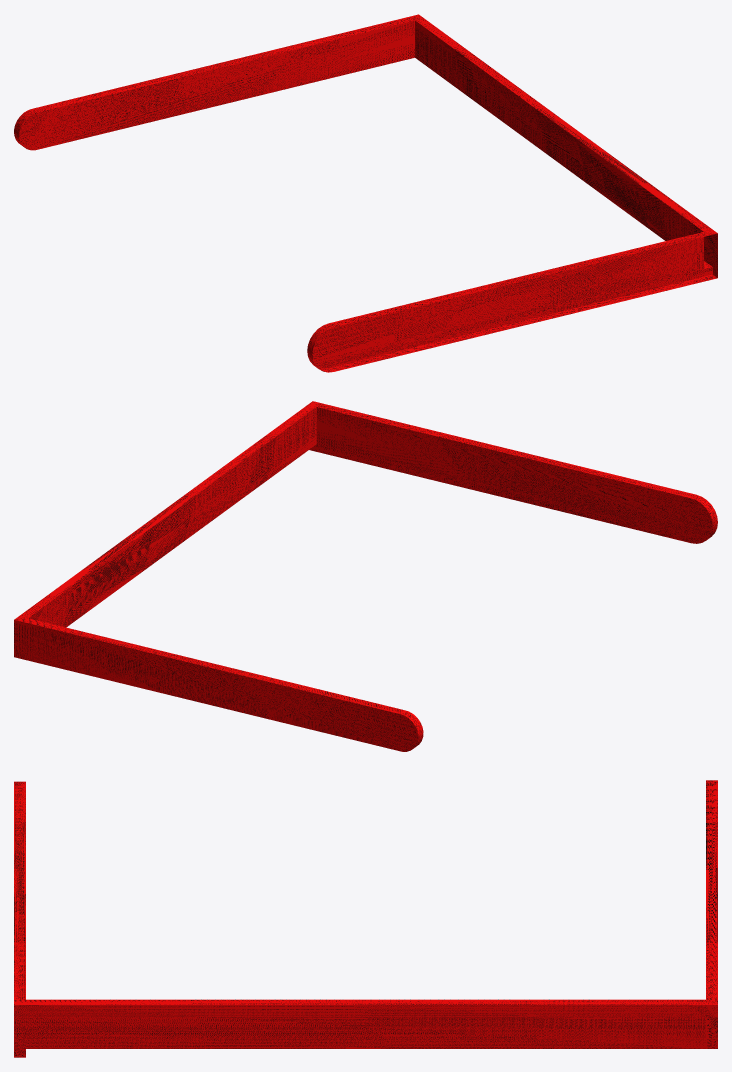
The model's file is original-1.obj.
3 renders of one model, top to bottom at view 1: azimuth 30°, elevation 25°; view 2: azimuth 150°, elevation 25°; view 3: azimuth 270°, elevation 25°, orthographic. The views are drawn at different scales.
Visible parts, largest first — view 1: #ID57; view 2: #ID57; view 3: #ID57.
Boxes of the visible parts, bbox=[...] form: #ID57: bbox=[14, 14, 717, 372]; #ID57: bbox=[14, 401, 717, 751]; #ID57: bbox=[14, 780, 717, 1057].
Size of the model in its own units: 0.7553 by 0.0799 by 0.9649.
